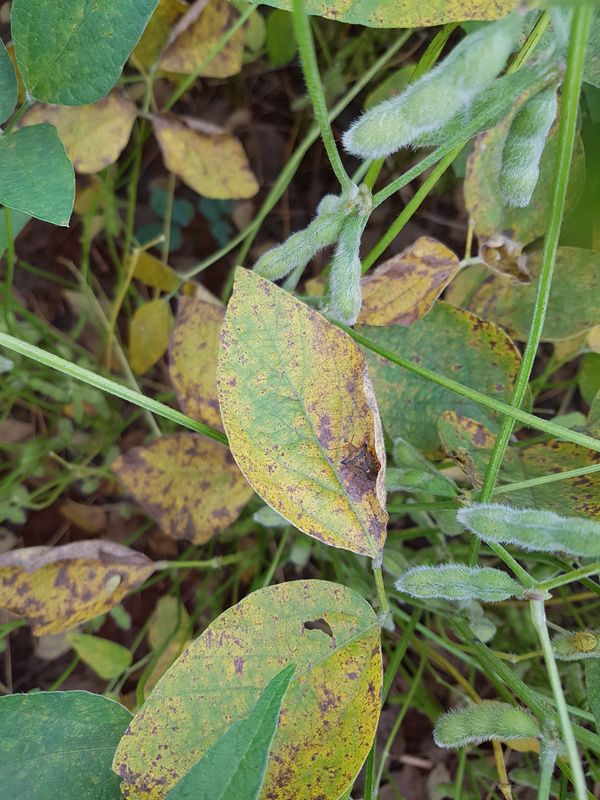Euschistus_heros_adulto: (324, 431, 396, 502)
